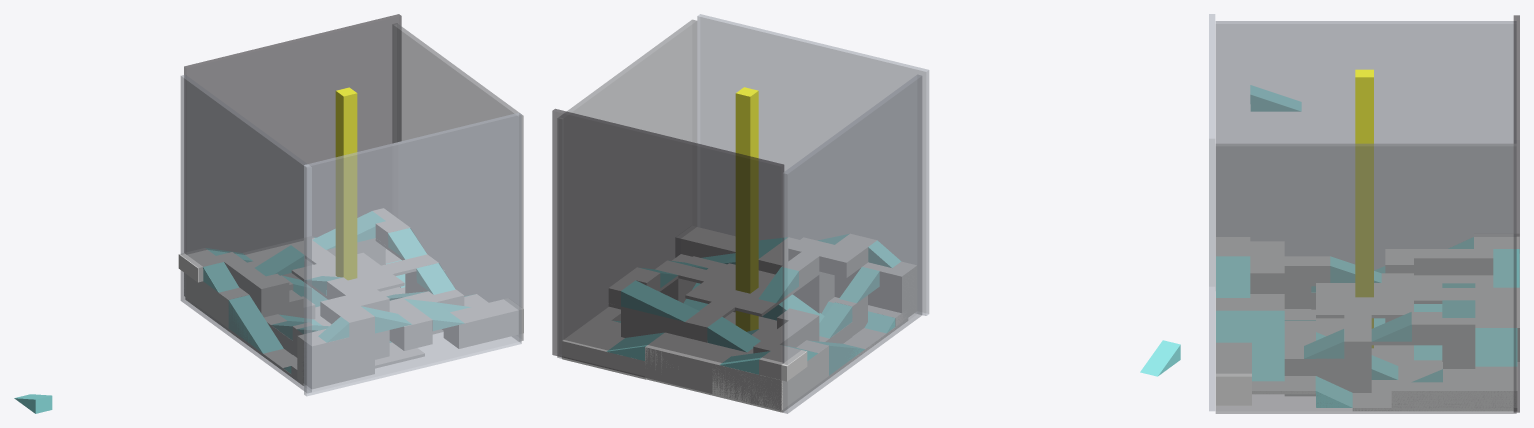
File: level_whitebox.glb
The picture shows the model from 3 angles, left to right: view 1: azimuth 30°, elevation 25°; view 2: azimuth 150°, elevation 25°; view 3: azimuth 270°, elevation 25°; orthographic projection. The views are drawn at different scales.
Visible parts, largest first — view 1: col_平台.022, col_平台.014, col_平台.008, col_平台.020, climb_.014, col_平台.050, col_平台.031, col_平台.081, ramp_平台.011, col_平台.082, col_平台.057, col_平台.034 (+20 smaller); view 2: col_平台.014, col_平台.022, col_平台.008, col_平台.020, climb_.014, col_平台.082, col_平台.058, col_平台.028, col_平台.081, col_平台.050, ramp_平台.016, col_平台.060 (+20 smaller); view 3: col_平台.020, col_平台.008, climb_.014, col_平台.081, col_平台.028, col_平台.022, col_平台.014, col_平台.031, ramp_平台.006, col_平台.045, col_平台.058, col_平台.055 (+33 smaller).
Part boxes in pixels (x1,y1,x2,y2): col_平台.022: (304,113,521,396); col_平台.014: (184,14,401,253); col_平台.008: (180,75,311,392); col_平台.020: (392,23,523,341); climb_.014: (335,87,357,279); col_平台.050: (297,329,374,388); col_平台.031: (444,298,523,348); col_平台.081: (292,253,404,299); ramp_平台.011: (228,295,283,353); col_平台.082: (184,252,292,328); col_平台.057: (390,299,432,350); col_平台.034: (249,274,288,316); col_平台.014: (552,109,784,410); col_平台.022: (697,14,929,315); col_平台.008: (782,74,922,413); col_平台.020: (557,19,697,358); climb_.014: (735,87,758,331); col_平台.082: (712,329,828,410); col_平台.058: (645,333,731,393); col_平台.028: (562,317,646,379); col_平台.081: (685,263,804,316); col_平台.050: (835,262,917,317); ramp_平台.016: (621,280,698,321); col_平台.060: (788,237,834,313); col_平台.020: (1215,143,1516,413); col_平台.008: (1215,21,1516,269); climb_.014: (1355,69,1373,347); col_平台.081: (1316,273,1413,317); col_平台.028: (1443,367,1517,411); col_平台.022: (1209,14,1215,411); col_平台.014: (1513,15,1519,412); col_平台.031: (1216,343,1251,405); ramp_平台.006: (1216,311,1284,342); col_平台.045: (1414,249,1492,274); col_平台.058: (1442,291,1519,361); col_平台.055: (1344,329,1371,392).
Size of the model in its own units: 174 by 83.5 by 82.71.
